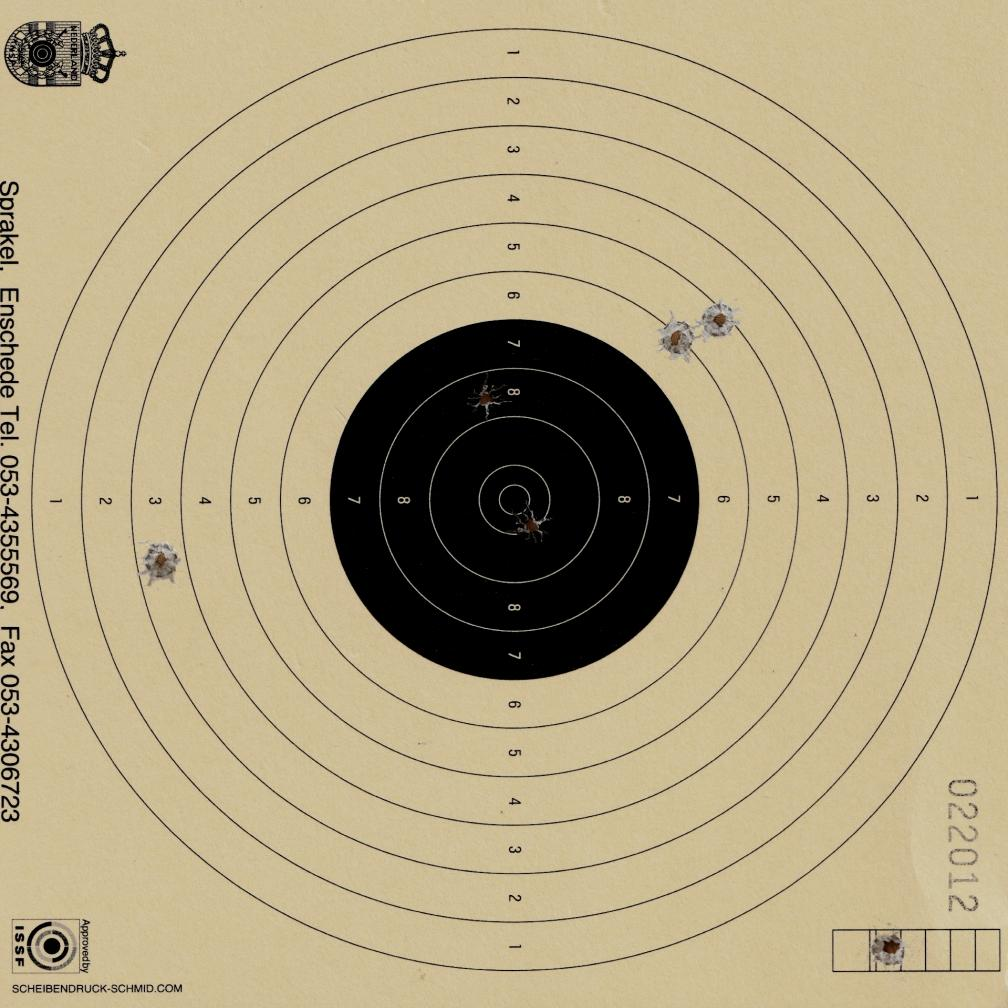0: (870, 930, 910, 968)
10: (514, 511, 548, 540)
3: (135, 539, 181, 585)
5: (700, 302, 740, 341)
6: (656, 313, 698, 362)
8: (471, 377, 508, 421)
Target: (25, 23, 1002, 976)
black_contour: (328, 319, 699, 680)
